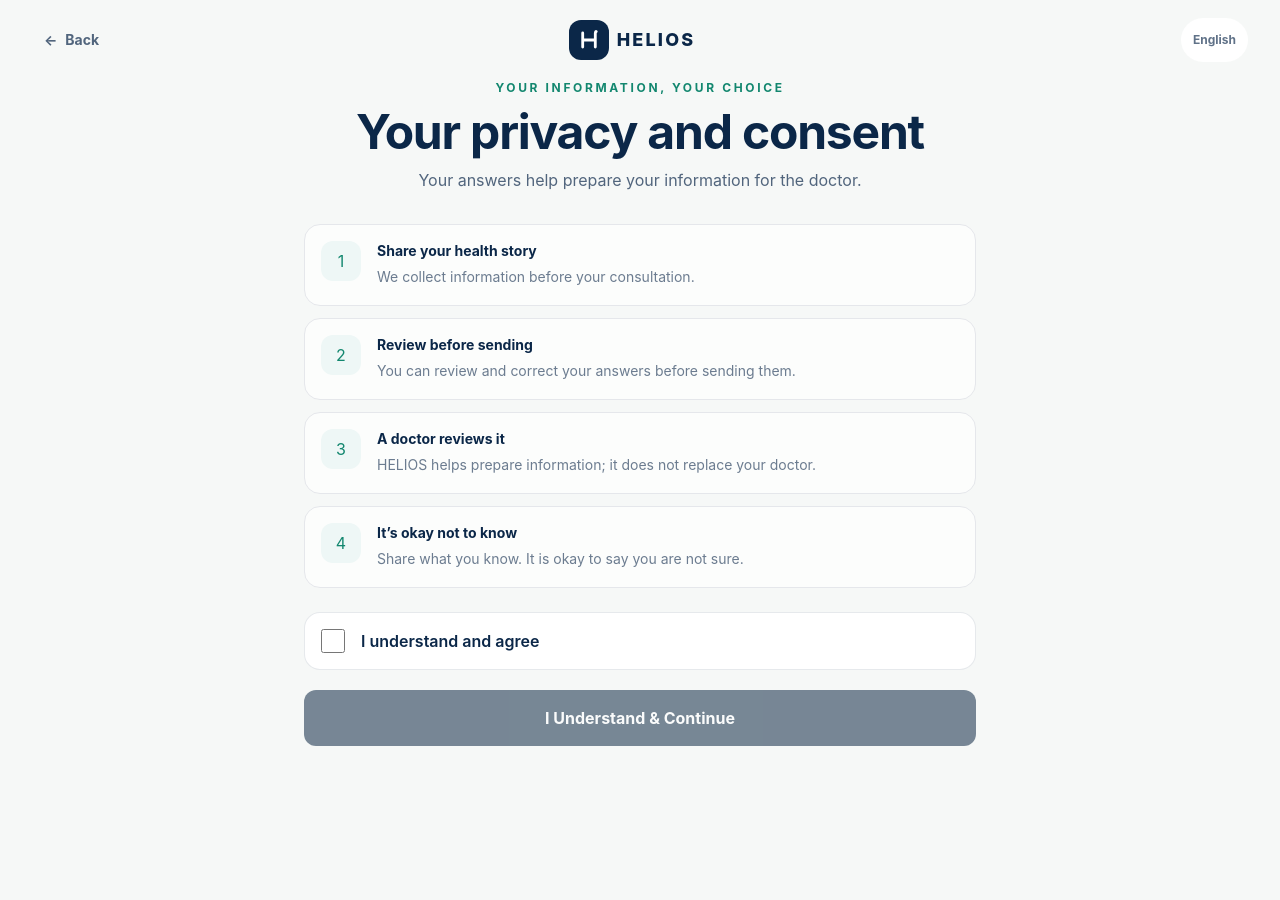
Scenario: patient experience › requires explicit consent
Expected: the button "I Understand & Continue" is disabled, [304,690,976,746]
Click the checkbox at (333, 641), box [321,629,345,653]
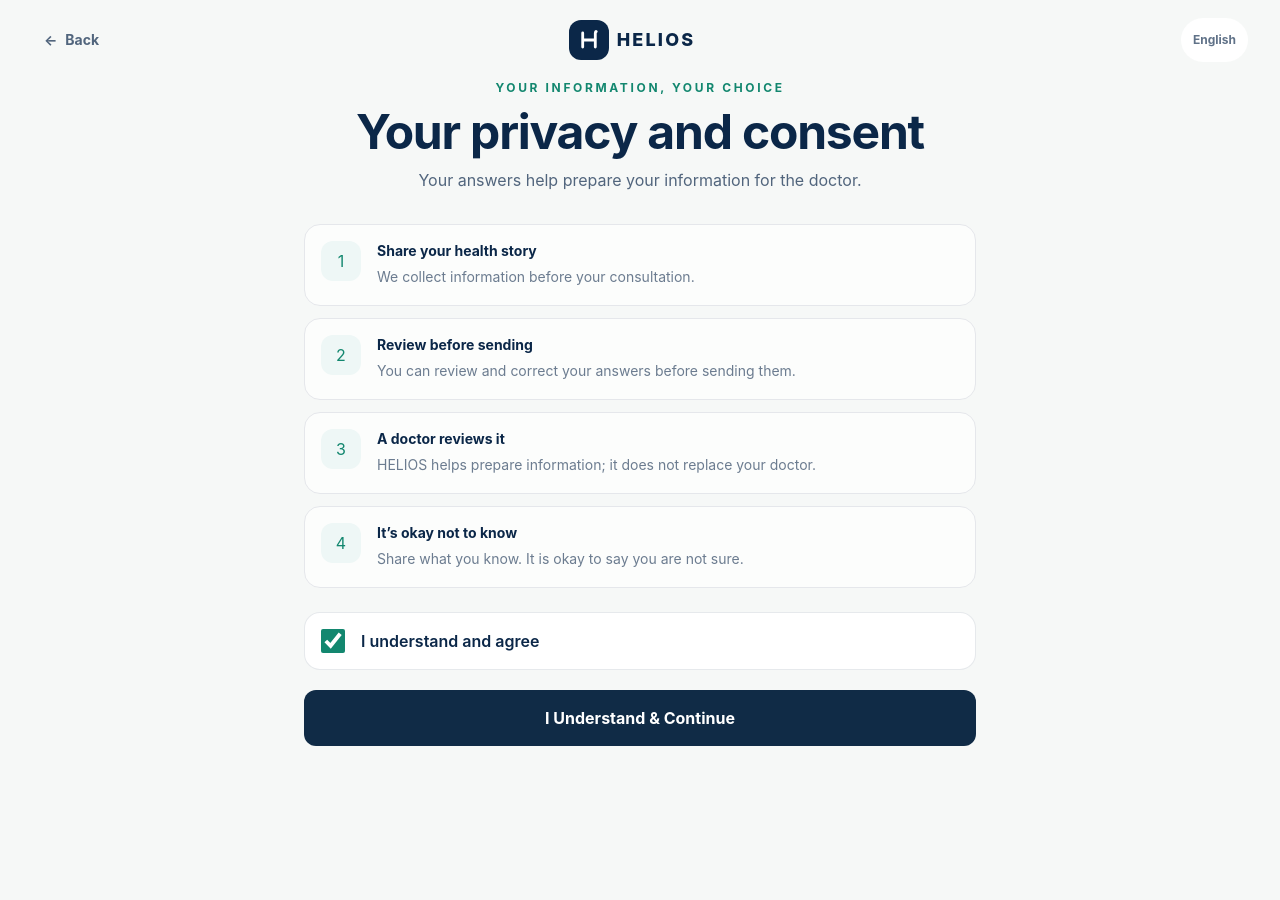
Expected: the button "I Understand & Continue" is enabled, [304,690,976,746]
